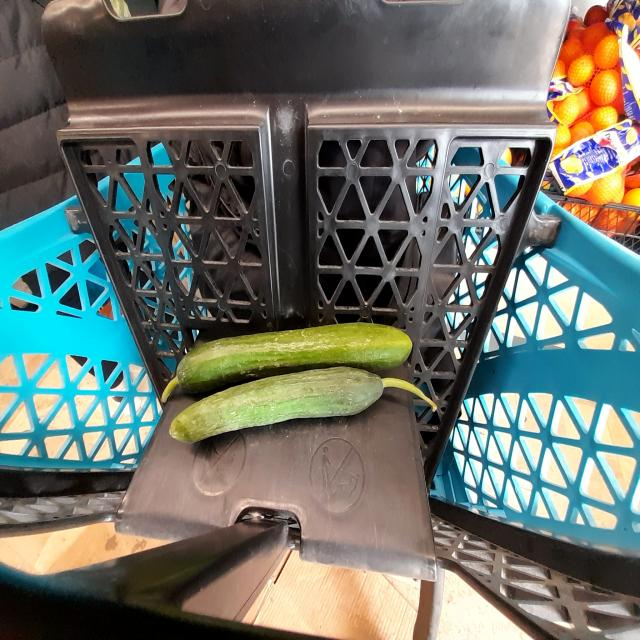cucumber: (163, 308, 424, 396), (167, 369, 439, 451)
